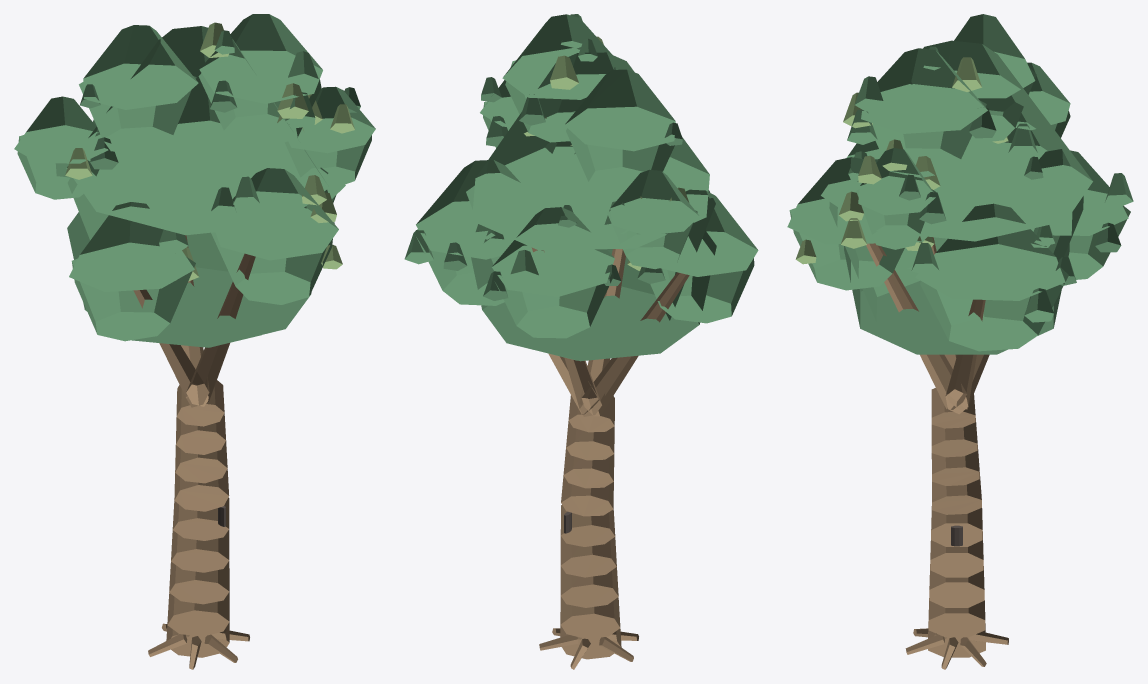
File: oak.glb
3 renders of one model, left to right at view 1: azimuth 30°, elevation 25°; view 2: azimuth 150°, elevation 25°; view 3: azimuth 270°, elevation 25°, orthographic. The views are drawn at different scales.
Parts seen in each view (by area): view 1: Crown#2, Crown.Under, Crown#4, Crown#14, Crown#12, Crown#8, Crown#3, Crown#7, Crown#18, Crown#13, Crown#11, Crown#16 (+21 smaller); view 2: Crown#2, Crown.Under, Crown#14, Crown#10, Crown#12, Crown#6, Crown#18, Crown#9, Crown#4, Crown#13, Crown#3, Branch (+21 smaller); view 3: Crown#2, Crown#6, Crown#12, Crown#5, Crown.Under, Crown#7, Crown#8, Crown#14, Crown#16, Crown#11, Crown#10, Crown (+27 smaller).
Boxes of the visible parts, bbox=[...] form: Crown#2: bbox=[66, 26, 329, 235]; Crown.Under: bbox=[67, 212, 311, 347]; Crown#4: bbox=[69, 202, 194, 291]; Crown#14: bbox=[83, 25, 198, 109]; Crown#12: bbox=[199, 14, 322, 103]; Crown#8: bbox=[215, 168, 338, 260]; Crown#3: bbox=[71, 257, 195, 341]; Crown#7: bbox=[211, 222, 334, 304]; Crown#18: bbox=[14, 96, 108, 163]; Crown#13: bbox=[79, 76, 196, 154]; Crown#11: bbox=[198, 73, 321, 146]; Crown#16: bbox=[288, 86, 375, 153]; Crown#2: bbox=[472, 52, 709, 250]; Crown.Under: bbox=[471, 230, 716, 361]; Crown#14: bbox=[564, 69, 675, 151]; Crown#10: bbox=[492, 207, 614, 296]; Crown#12: bbox=[502, 14, 612, 99]; Crown#6: bbox=[416, 160, 520, 259]; Crown#18: bbox=[610, 169, 699, 235]; Crown#9: bbox=[493, 271, 613, 338]; Crown#4: bbox=[660, 189, 758, 276]; Crown#13: bbox=[566, 128, 678, 192]; Crown#3: bbox=[650, 258, 754, 323]; Branch: bbox=[581, 272, 689, 416]; Crown#2: bbox=[821, 40, 1092, 241]; Crown#6: bbox=[915, 203, 1065, 300]; Crown#12: bbox=[861, 48, 987, 133]; Crown#5: bbox=[920, 267, 1068, 351]; Crown.Under: bbox=[844, 243, 1069, 354]; Crown#7: bbox=[789, 208, 904, 290]; Crown#8: bbox=[787, 157, 875, 244]; Crown#14: bbox=[954, 14, 1035, 98]; Crown#16: bbox=[858, 148, 935, 215]; Crown#11: bbox=[872, 100, 986, 177]; Crown#10: bbox=[1031, 149, 1128, 235]; Crown: bbox=[829, 196, 1083, 322].
Bounding box in the file's own units: 7.5 × 15.08 × 7.7.
